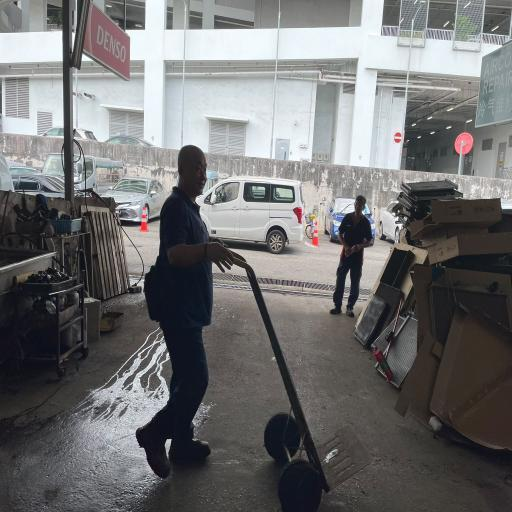person_right: (136, 145, 329, 512)
